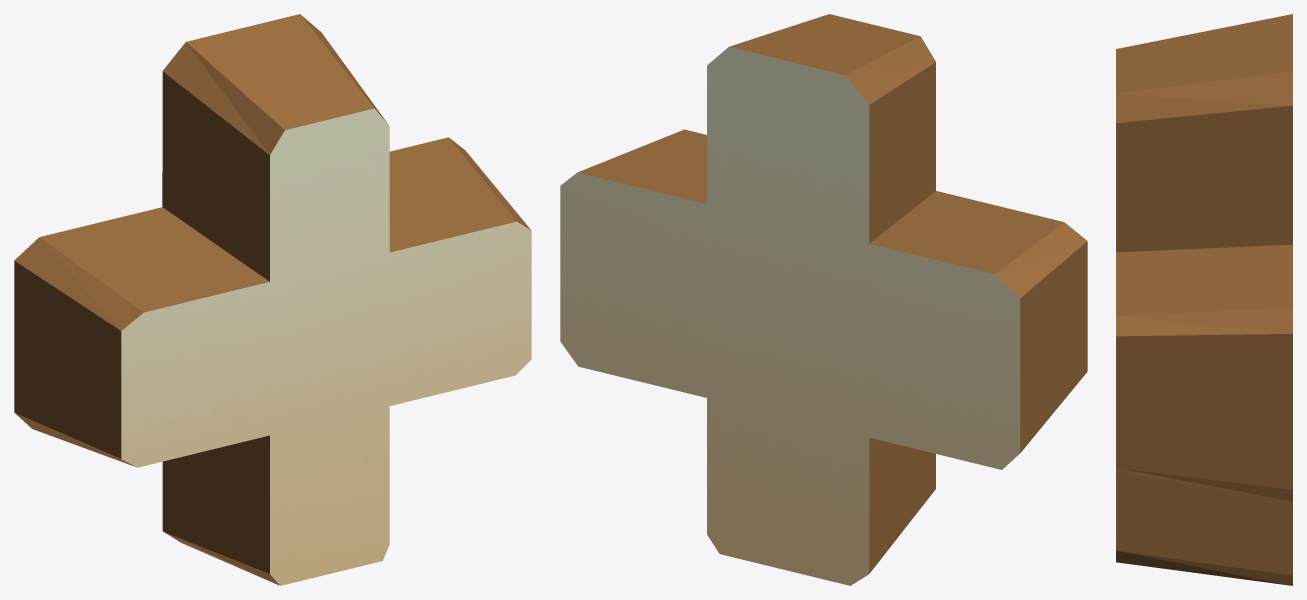
File: jidi_jiahao.FBX
3 renders of one model, left to right at view 1: azimuth 30°, elevation 25°; view 2: azimuth 150°, elevation 25°; view 3: azimuth 270°, elevation 25°, orthographic. The views are drawn at different scales.
Visible parts, largest first — view 1: Plane007; view 2: Plane007; view 3: Plane007.
Part boxes in pixels (<box>): Plane007: <box>14,14,531,585</box>; Plane007: <box>560,14,1087,585</box>; Plane007: <box>1116,14,1292,585</box>.
Bounding box in the file's own units: 66.78 × 70.66 × 22.17.
